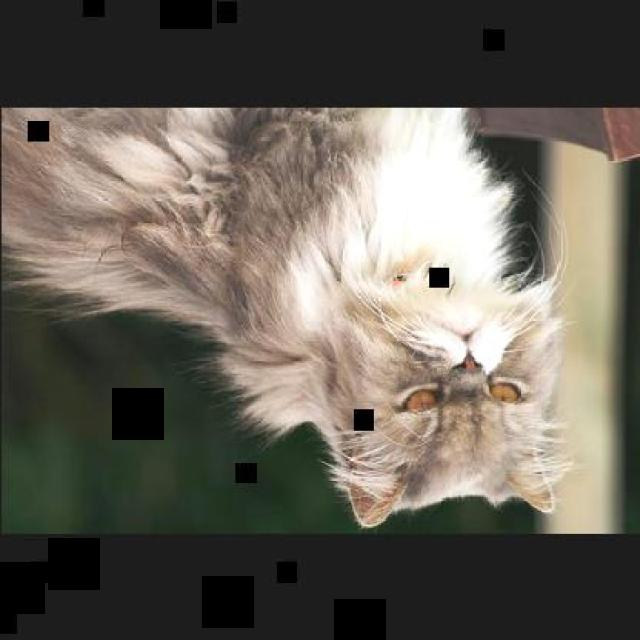unauthorized: (0, 104, 575, 527)
